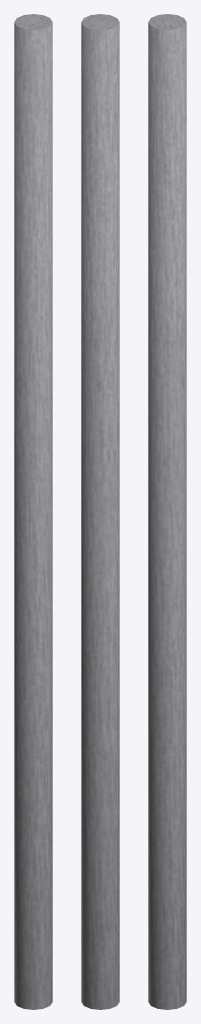
The model's file is fence-tall-chainlink-1rail-line-pole-cbj_LOD00.gltf.
The picture shows the model from 3 angles, left to right: view 1: azimuth 30°, elevation 25°; view 2: azimuth 210°, elevation 25°; view 3: azimuth 270°, elevation 25°; orthographic projection.
Visible parts, largest first — view 1: cube00; view 2: cube00; view 3: cube00.
Part boxes in pixels (left/top/right/bottom): cube00: left=14, top=14, right=52, bottom=1009; cube00: left=81, top=14, right=119, bottom=1009; cube00: left=148, top=14, right=186, bottom=1009.
Bounding box in the file's own units: 0.08 × 2.25 × 0.08.
